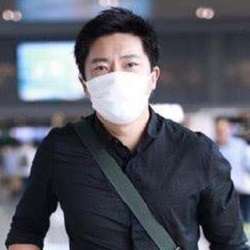mask: (79, 68, 152, 124)
